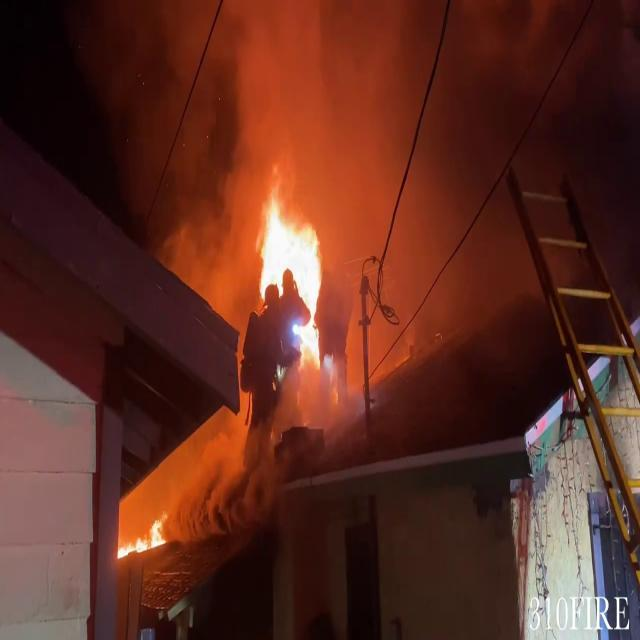Fire: (252, 178, 332, 374), (115, 504, 168, 564)
Smoke: (98, 4, 535, 332)
